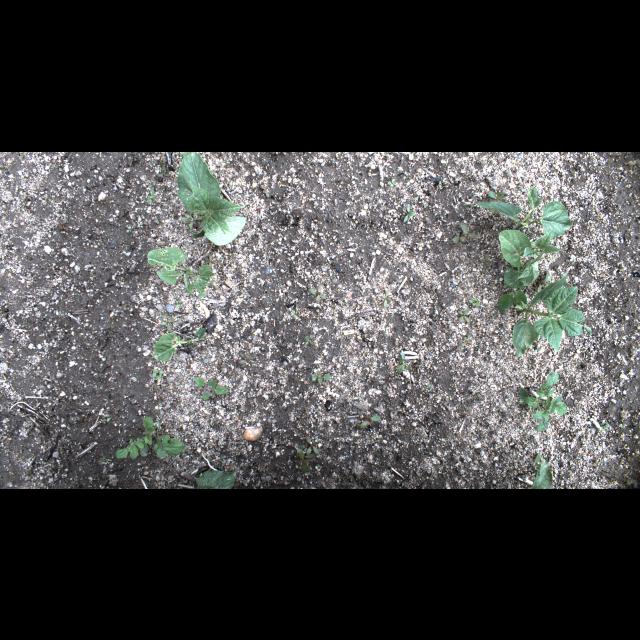crop: (512, 271, 592, 357), (176, 152, 248, 245), (472, 186, 574, 238), (499, 228, 565, 288), (147, 246, 219, 296), (154, 326, 206, 362), (196, 469, 238, 488), (530, 452, 552, 488)
weed: (116, 416, 186, 458), (519, 371, 567, 432), (194, 376, 228, 400), (498, 284, 528, 310), (534, 270, 556, 292), (296, 448, 316, 472), (453, 224, 475, 242), (396, 349, 412, 373), (238, 350, 256, 368), (308, 284, 326, 302), (306, 436, 320, 456), (360, 414, 380, 428), (404, 203, 416, 223), (488, 190, 507, 202), (160, 314, 173, 330), (311, 372, 331, 382), (303, 332, 315, 348), (98, 451, 112, 464), (152, 158, 166, 170), (458, 308, 470, 322), (479, 253, 489, 269), (382, 290, 392, 306), (148, 186, 156, 204), (596, 422, 610, 431), (260, 184, 270, 196), (462, 333, 472, 345), (18, 151, 32, 159), (152, 368, 162, 379), (214, 358, 224, 369), (157, 170, 171, 177), (469, 297, 481, 305), (594, 373, 604, 381), (388, 178, 397, 186), (174, 300, 182, 308), (618, 422, 628, 426), (292, 309, 296, 319), (210, 254, 212, 268), (126, 225, 130, 231), (534, 347, 540, 351), (438, 180, 442, 186)
